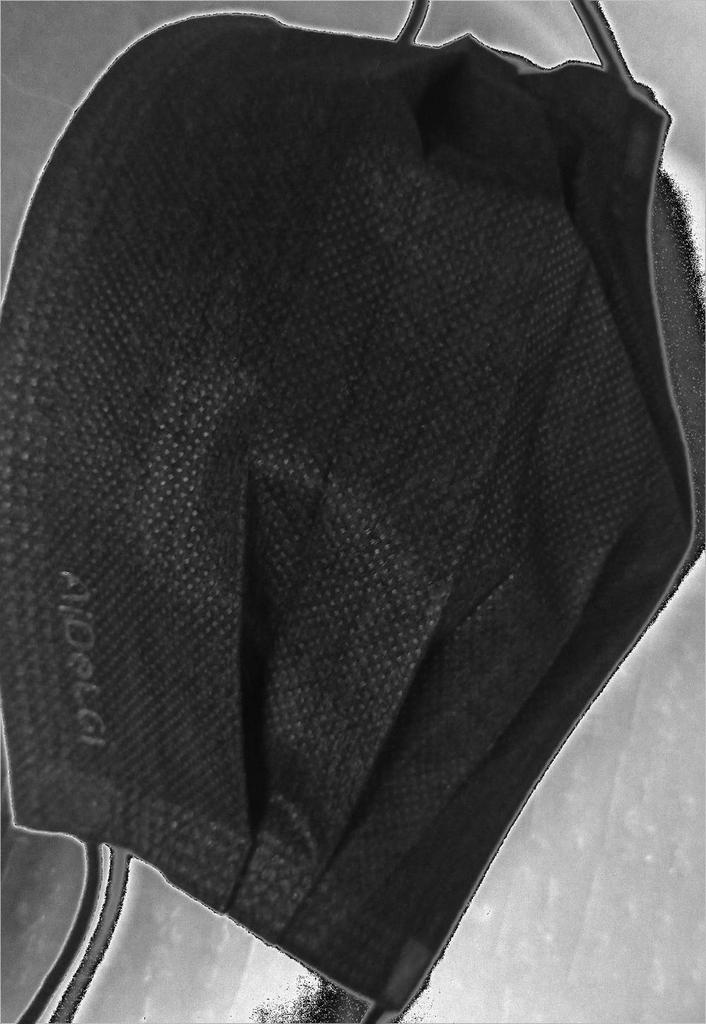Low GSM: (5, 8, 699, 1018)
